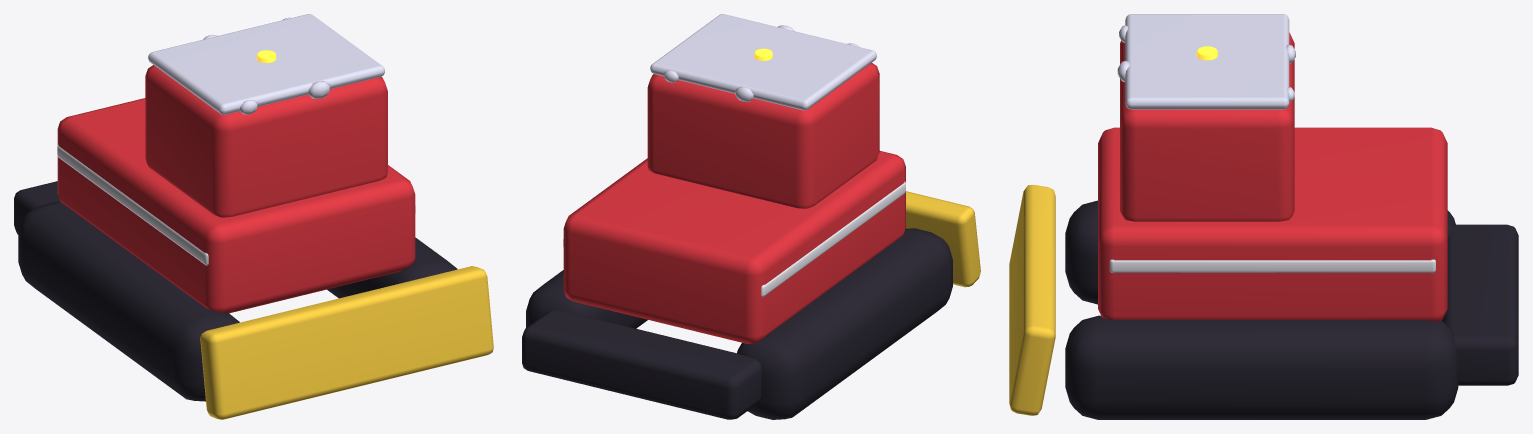
File: frost_snowcat.glb
3 renders of one model, left to right at view 1: azimuth 30°, elevation 25°; view 2: azimuth 150°, elevation 25°; view 3: azimuth 270°, elevation 25°, orthographic. The views are drawn at different scales.
Visible parts, largest first — view 1: Snowcat; view 2: Snowcat; view 3: Snowcat.
Part boxes in pixels (x1=…): Snowcat: x1=14, y1=14, x2=493, y2=419; Snowcat: x1=522, y1=14, x2=980, y2=419; Snowcat: x1=1009, y1=14, x2=1518, y2=419.
Bounding box in the file's own units: 3.3 × 3.08 × 4.66.
